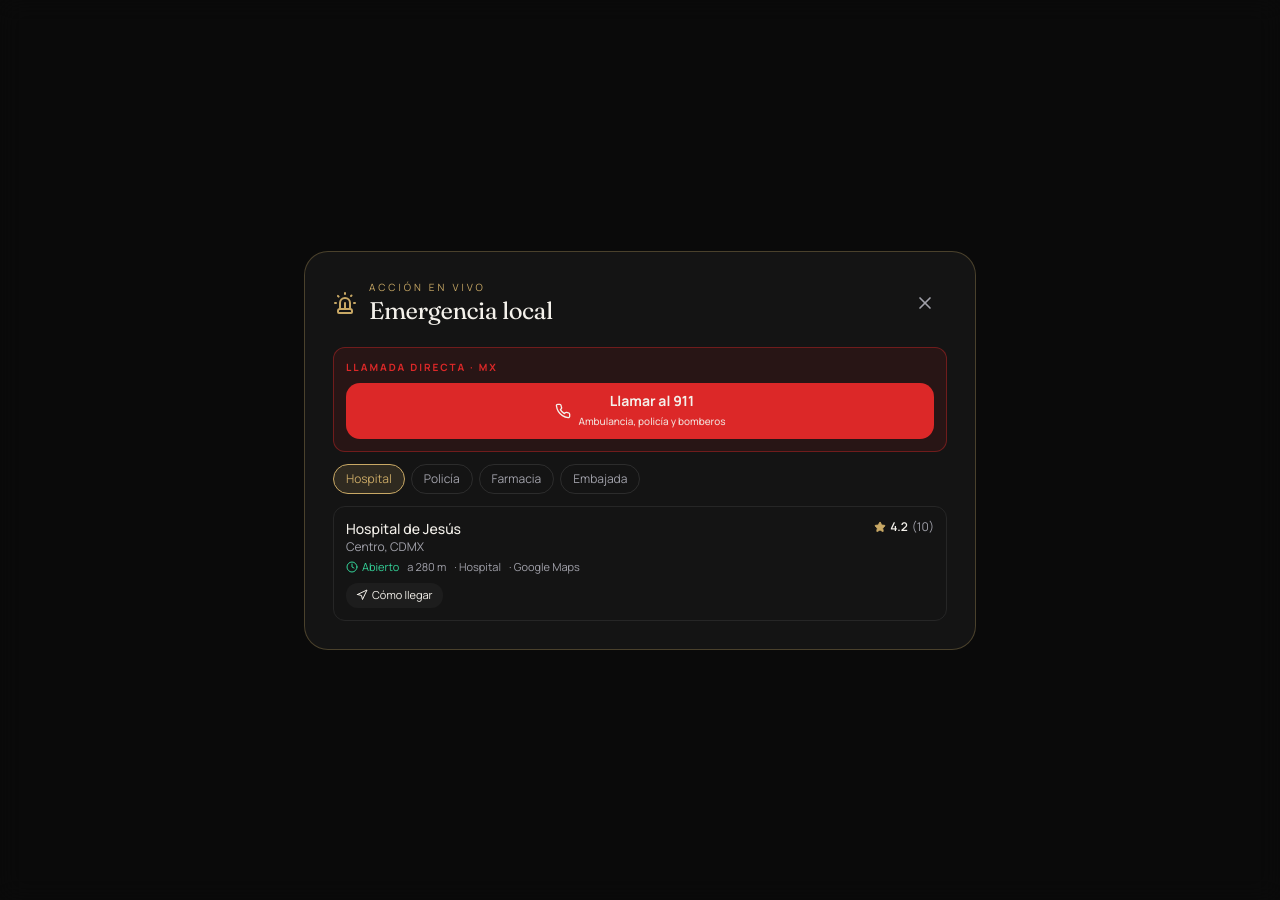
Test: N4-P1-2 · Emergencia local sin carrera entre pestañas › mientras carga la pestaña nueva, el indicador sigue y la lista vieja no se queda debajo
The image size is (1280, 900).
Expected: the text "Hospital de Jesús" is shown, [346,518,461,538]
Click the button "Policía": (442, 478) [411,464,472,494]
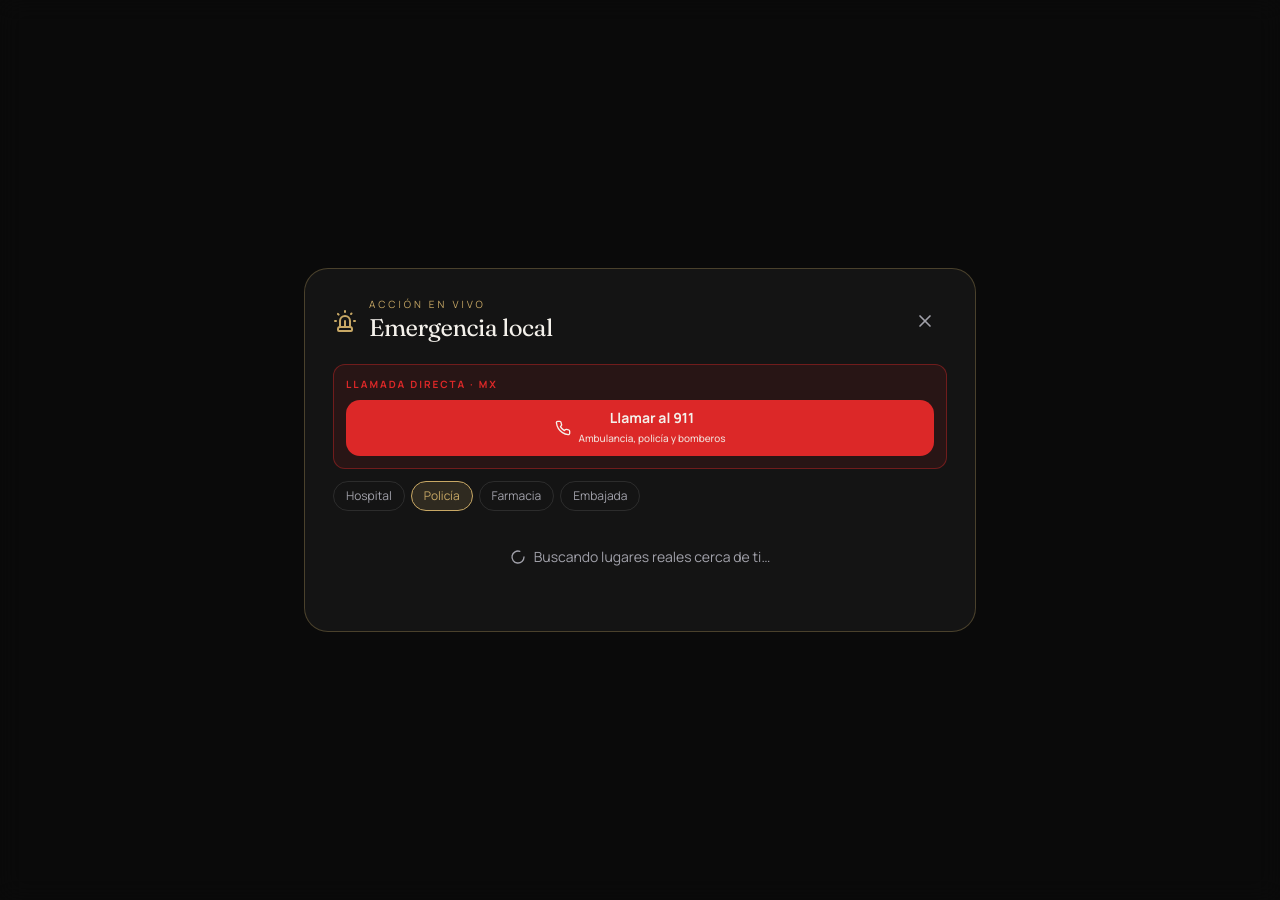
Now the text "Buscando lugares reales cerca de ti…" is shown, box [510,547,770,566]
Now the text "Hospital de Jesús" is gone
